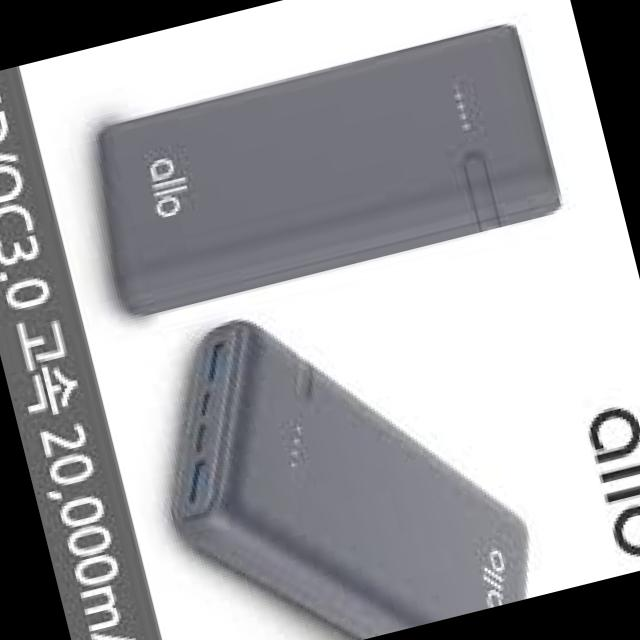power_bank: (126, 258, 549, 640), (70, 15, 568, 326)
